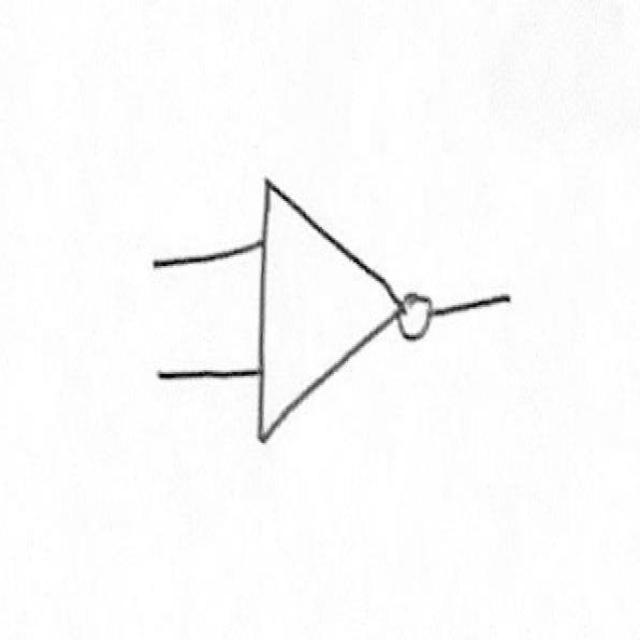NOT: (252, 156, 443, 452)
